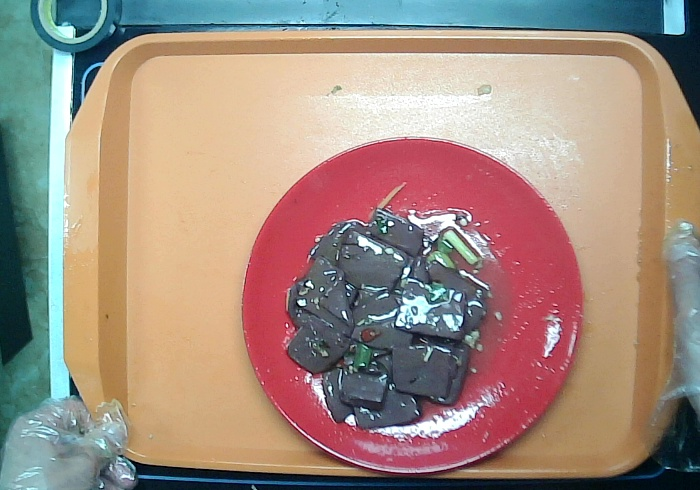HZYJPL-Hong_Se_Yuan_Pan: (245, 126, 586, 473)
